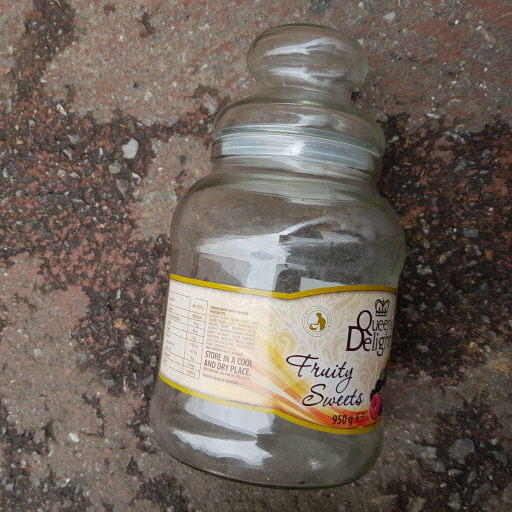Glass_5: (147, 27, 407, 480)
